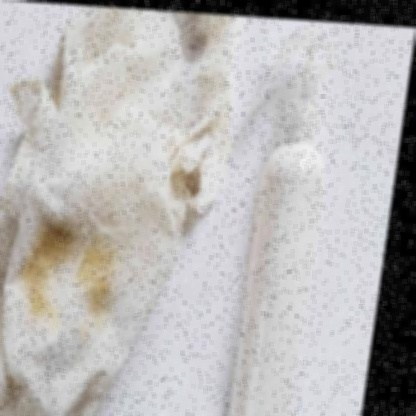coffee: (25, 270, 53, 315), (86, 255, 112, 302), (40, 227, 68, 263)
